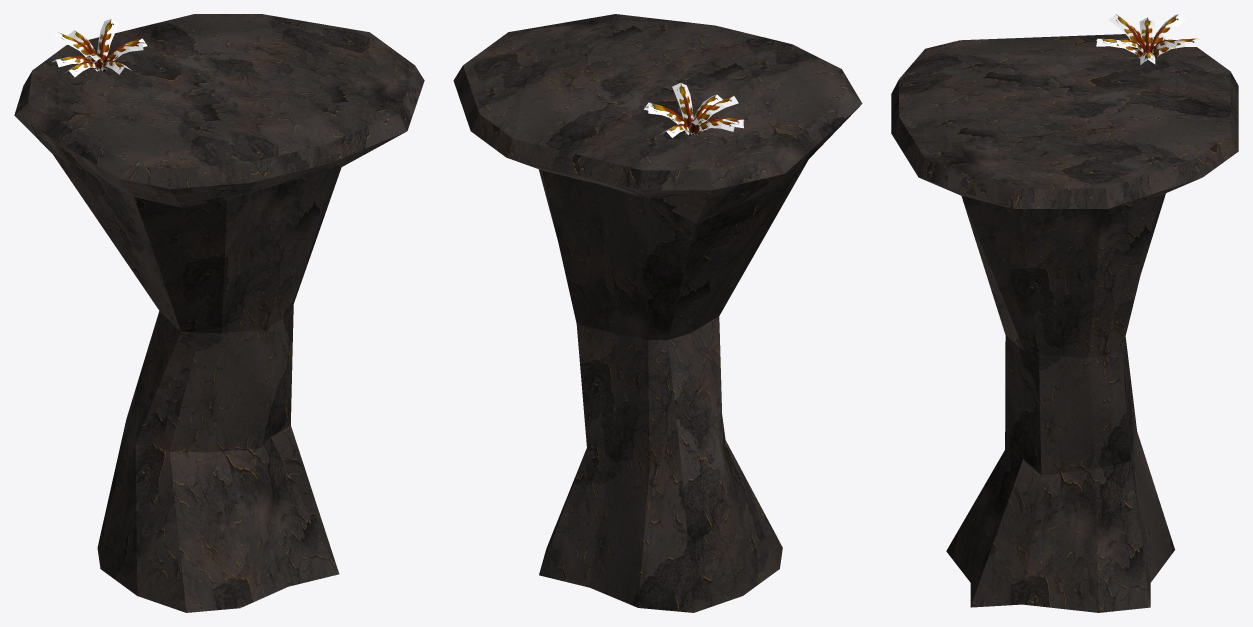
The model's file is platform_1_tex_0001.fbx.
3 views of the same model, side by side, from view 1: azimuth 30°, elevation 25°; view 2: azimuth 150°, elevation 25°; view 3: azimuth 270°, elevation 25° (orthographic).
Visible parts, largest first — view 1: Box001; view 2: Box001; view 3: Box001.
Part boxes in pixels (bbox=[...]): Box001: bbox=[14, 14, 424, 612]; Box001: bbox=[453, 14, 862, 612]; Box001: bbox=[891, 34, 1238, 612].
Bounding box in the file's own units: 59.03 × 82.98 × 51.39.
10 materials, 10 textured.
